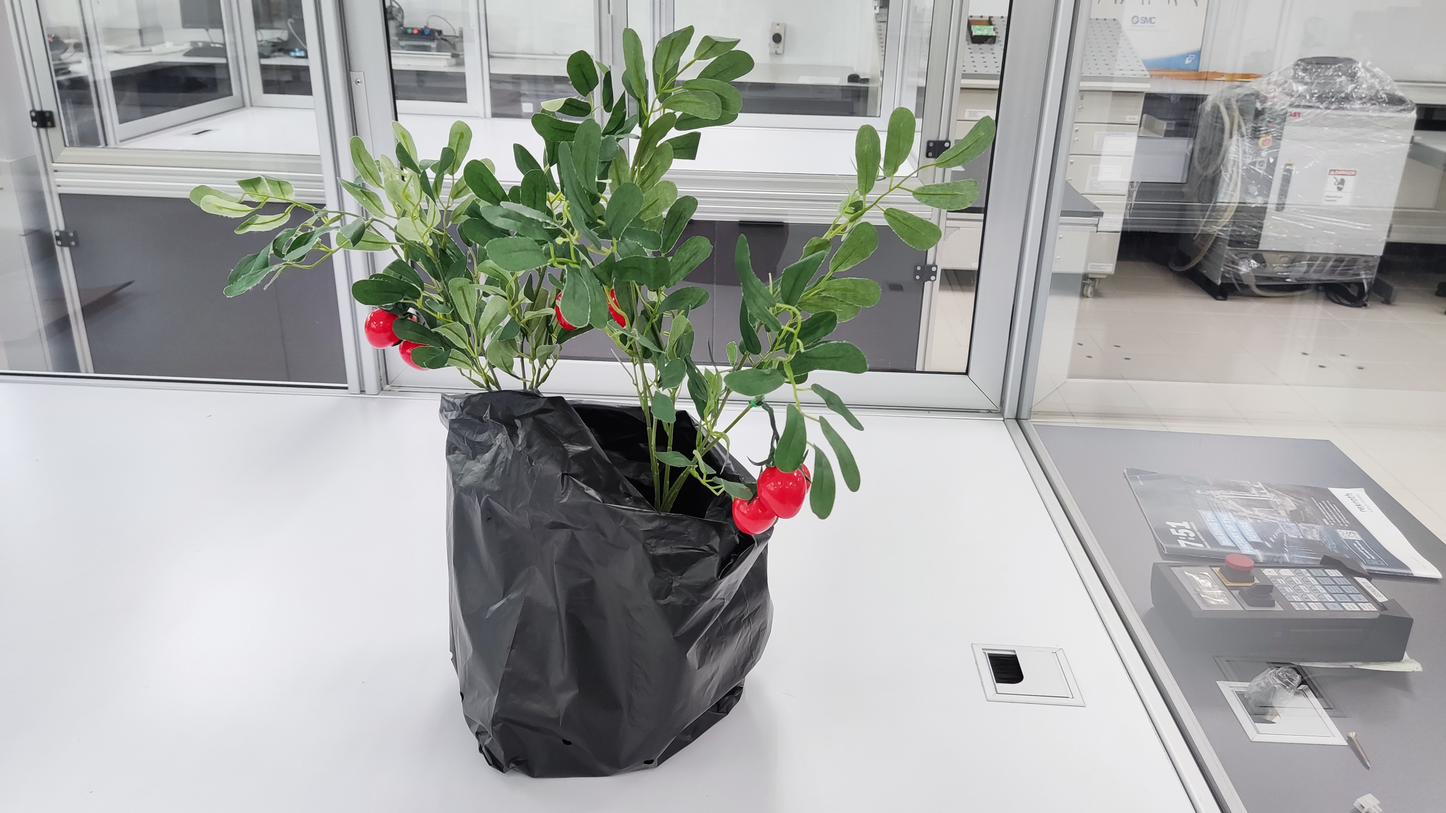peduncle: (762, 403, 777, 432)
strawberry: (757, 466, 806, 519), (732, 497, 777, 534), (363, 309, 401, 349), (399, 340, 425, 370)
